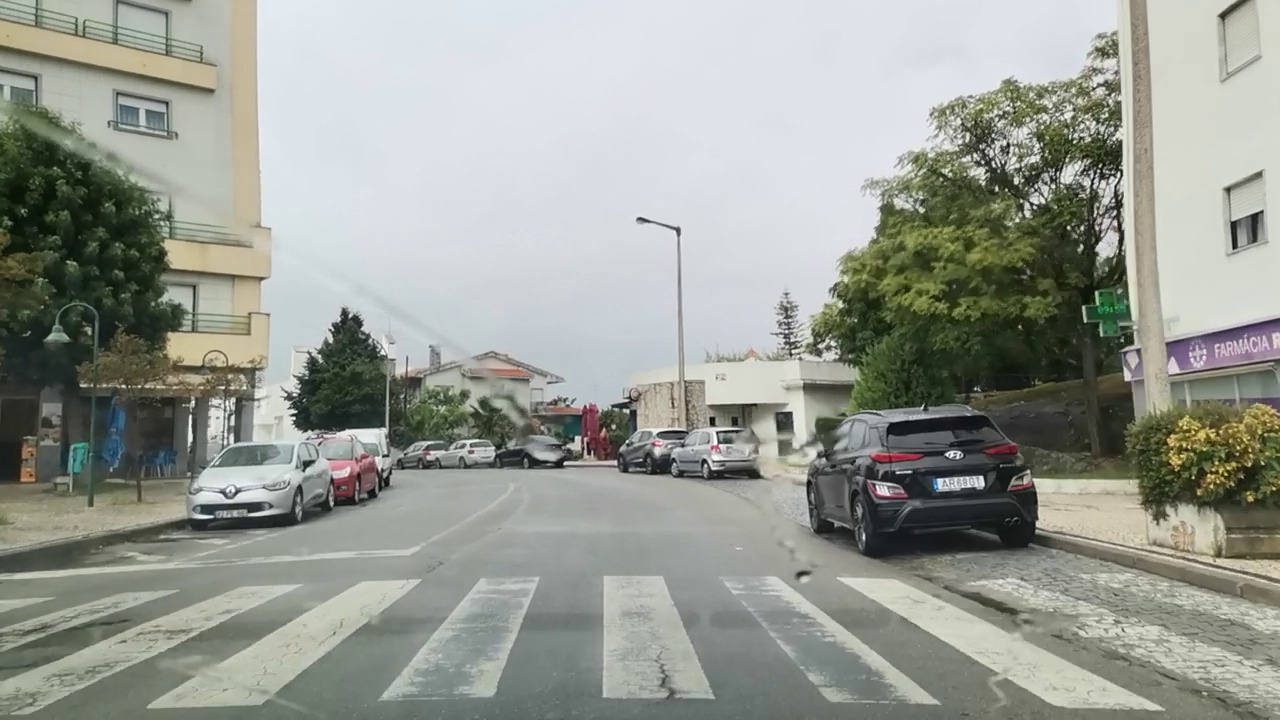Stairs: (0, 581, 1172, 715)
